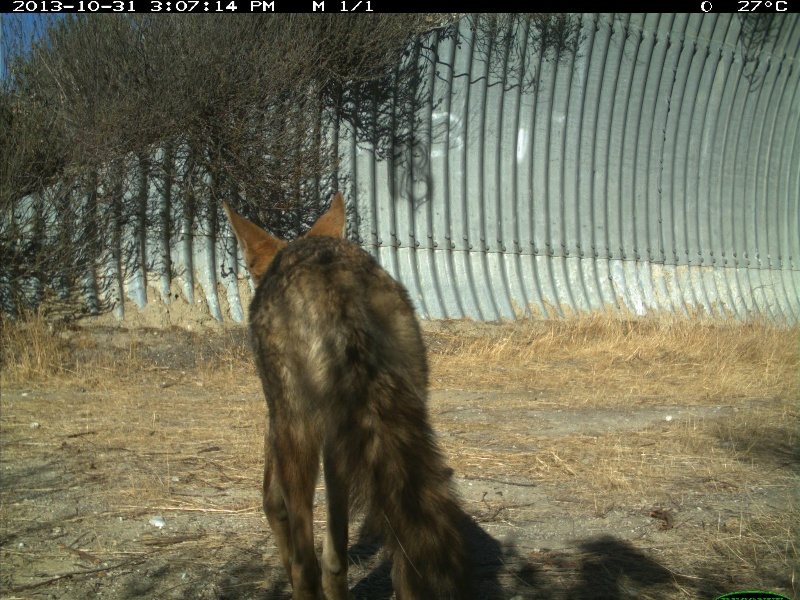coyote: (219, 189, 485, 600)
